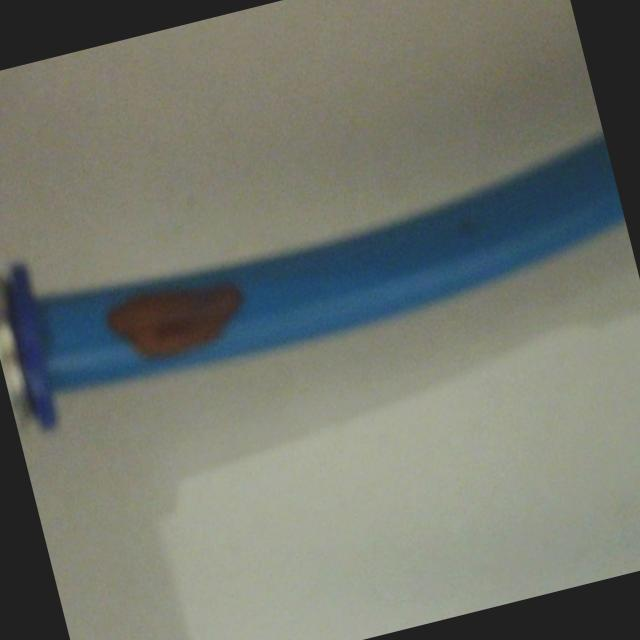hose_damage: (91, 248, 272, 386)
